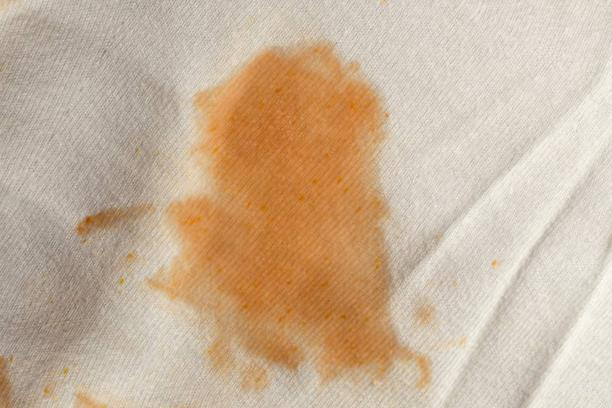stain: (141, 41, 449, 395), (75, 202, 153, 246), (2, 353, 28, 408)
